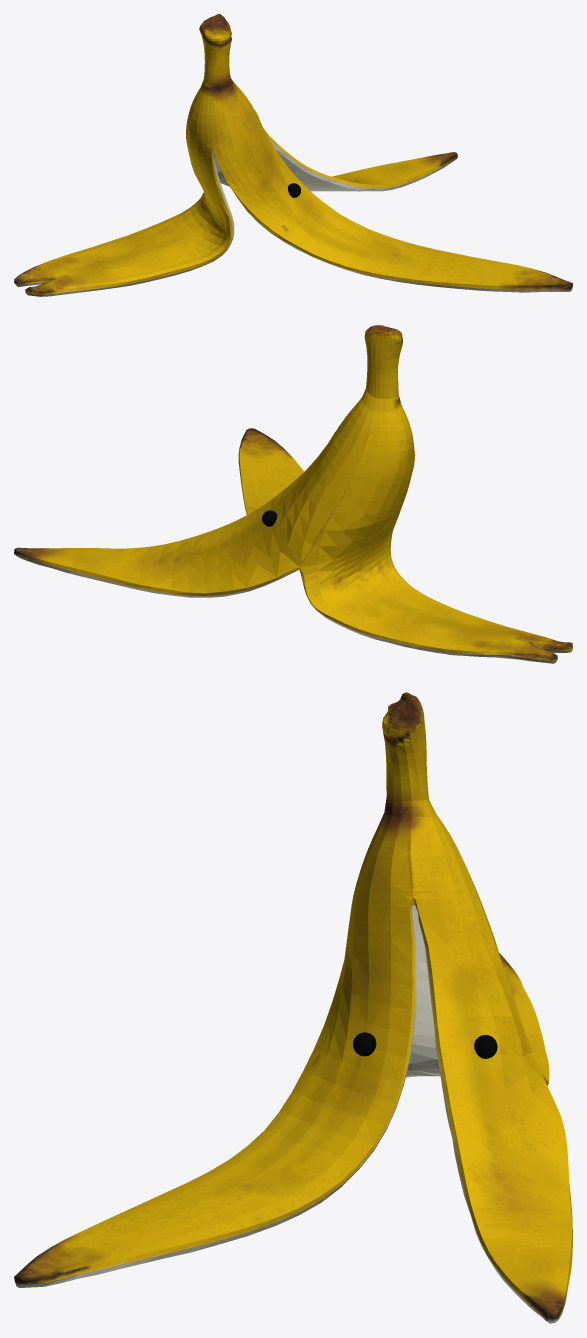
File: BananaPeel_Model.fbx
3 views of the same model, one above another, from view 1: azimuth 30°, elevation 25°; view 2: azimuth 150°, elevation 25°; view 3: azimuth 270°, elevation 25° (orthographic). The views are drawn at different scales.
Visible parts, largest first — view 1: node_id27; view 2: node_id27; view 3: node_id27.
Part boxes in pixels (x1,y1,x2,y2): node_id27: [14, 14, 572, 296]; node_id27: [14, 325, 572, 663]; node_id27: [14, 692, 572, 1323].
Bounding box in the file's own units: 209 × 106 × 133.
2 materials, 1 textured.
